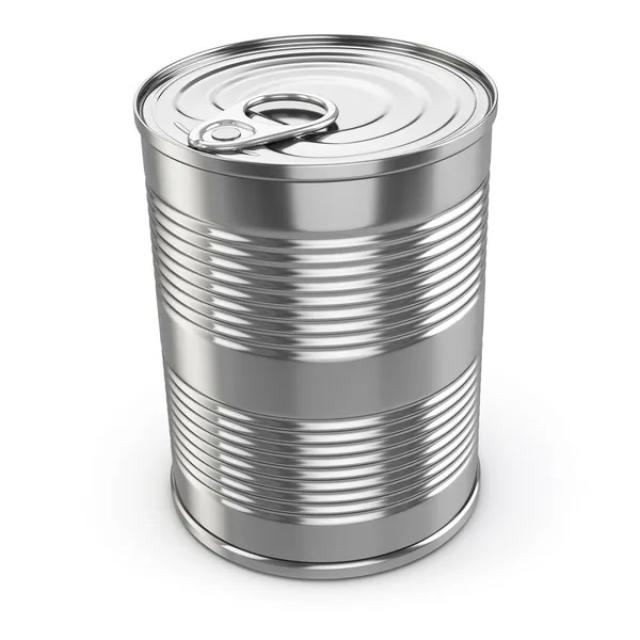metal: (138, 33, 494, 580)
